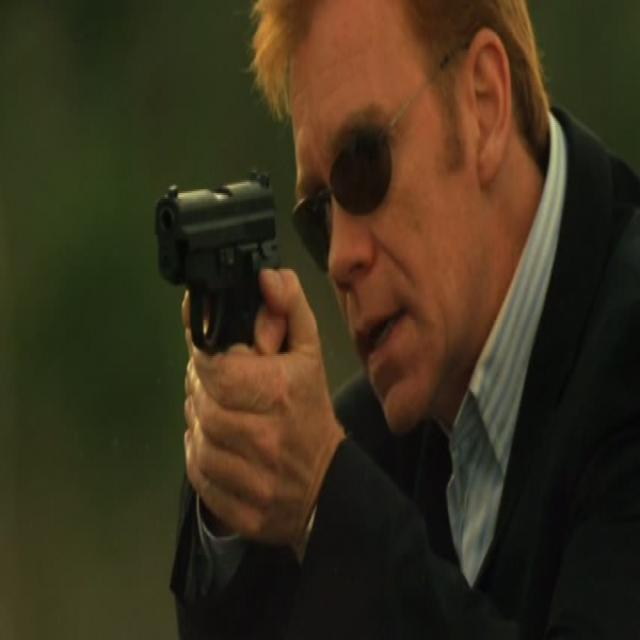weapons: (144, 155, 294, 426)
